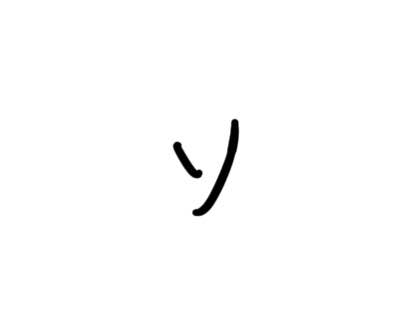n: (170, 115, 245, 224)
